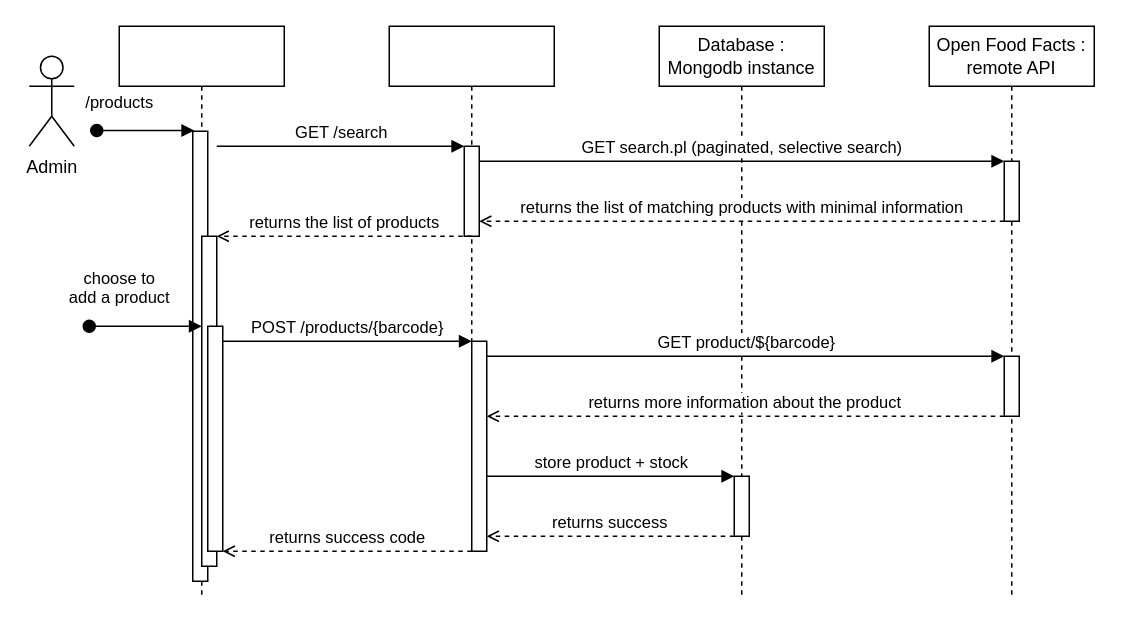
This 1121x623 diagram has some shape labels left out. Each missing label, with the centre of its shape:
"Backend : express.js API" goes at [471,250].
"Frontend : React SPA" goes at [201,310].
